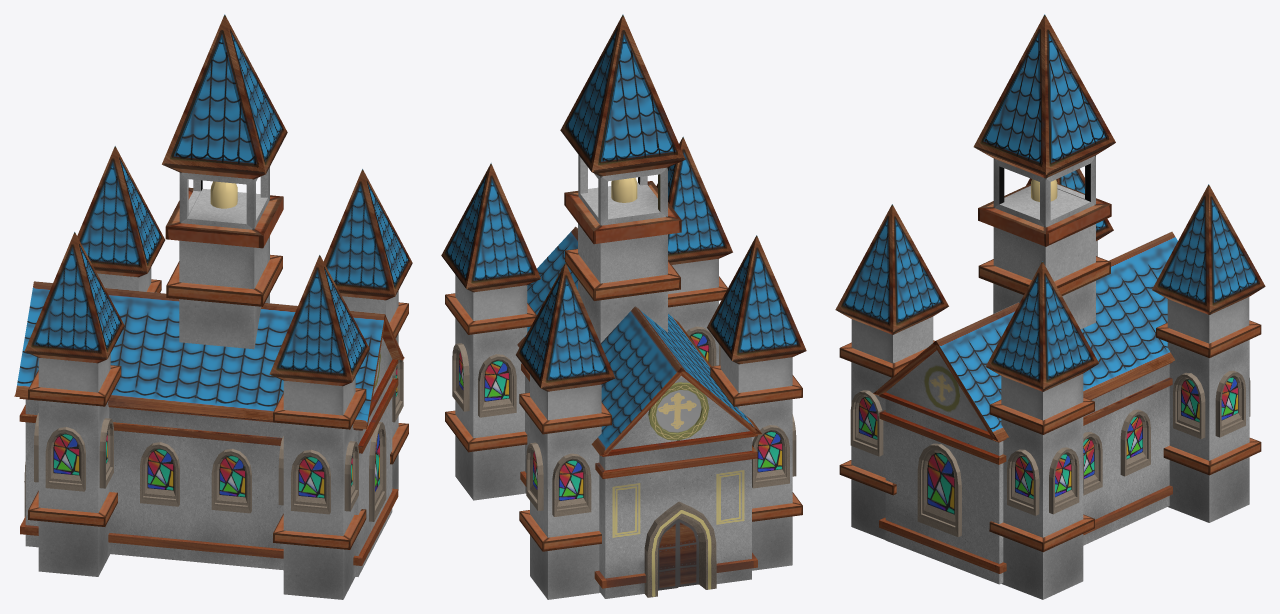
The picture shows the model from 3 angles, left to right: view 1: azimuth 30°, elevation 25°; view 2: azimuth 150°, elevation 25°; view 3: azimuth 270°, elevation 25°; orthographic projection. The views are drawn at different scales.
Visible parts, largest first — view 1: Column_V1__3_; view 2: Column_V1__3_; view 3: Column_V1__3_.
Part boxes in pixels (<box>): Column_V1__3_: <box>14,14,412,599</box>; Column_V1__3_: <box>441,14,806,599</box>; Column_V1__3_: <box>835,14,1265,599</box>.
Bounding box in the file's own units: 1119 × 1123 × 1451.
Materials: 1 (1 with a texture image).
